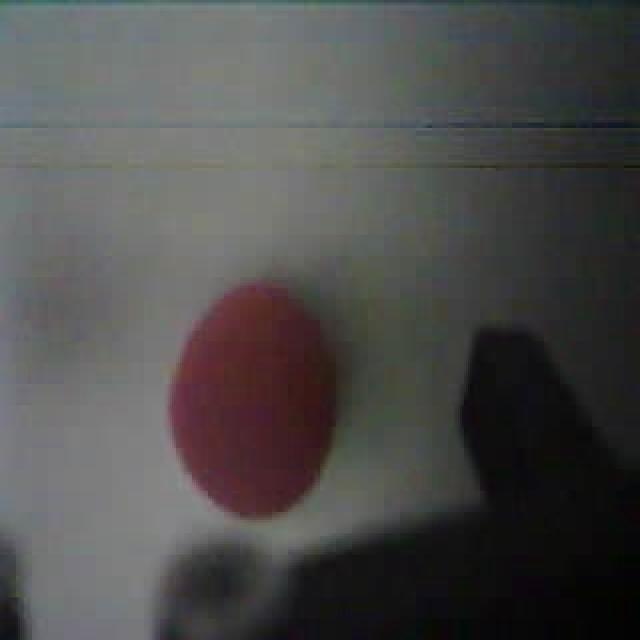red_ball: (164, 275, 342, 520)
